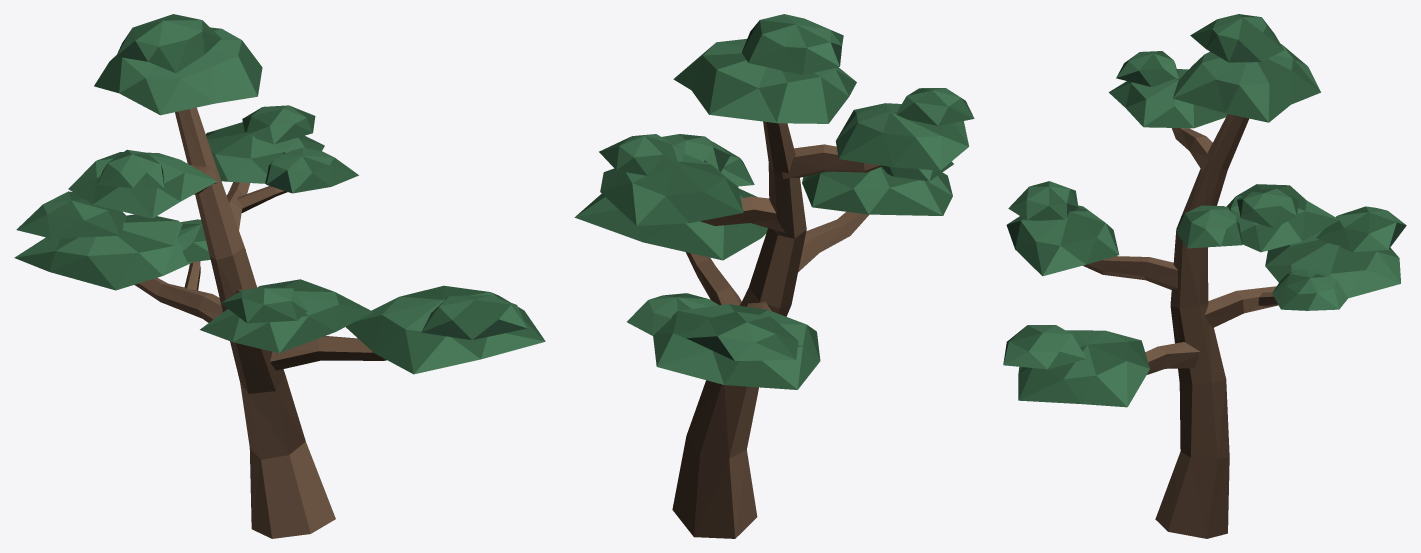
File: tree_pine_c.fbx
3 views of the same model, side by side, from view 1: azimuth 30°, elevation 25°; view 2: azimuth 150°, elevation 25°; view 3: azimuth 270°, elevation 25° (orthographic). The views are drawn at different scales.
Parts seen in each view (by area): view 1: tree_pine_c; view 2: tree_pine_c; view 3: tree_pine_c.
Part boxes in pixels (x1=…): tree_pine_c: x1=14, y1=14, x2=545, y2=538; tree_pine_c: x1=574, y1=14, x2=974, y2=538; tree_pine_c: x1=1003, y1=14, x2=1406, y2=538.
Size of the model in its own units: 7.3 by 9.23 by 7.19.
